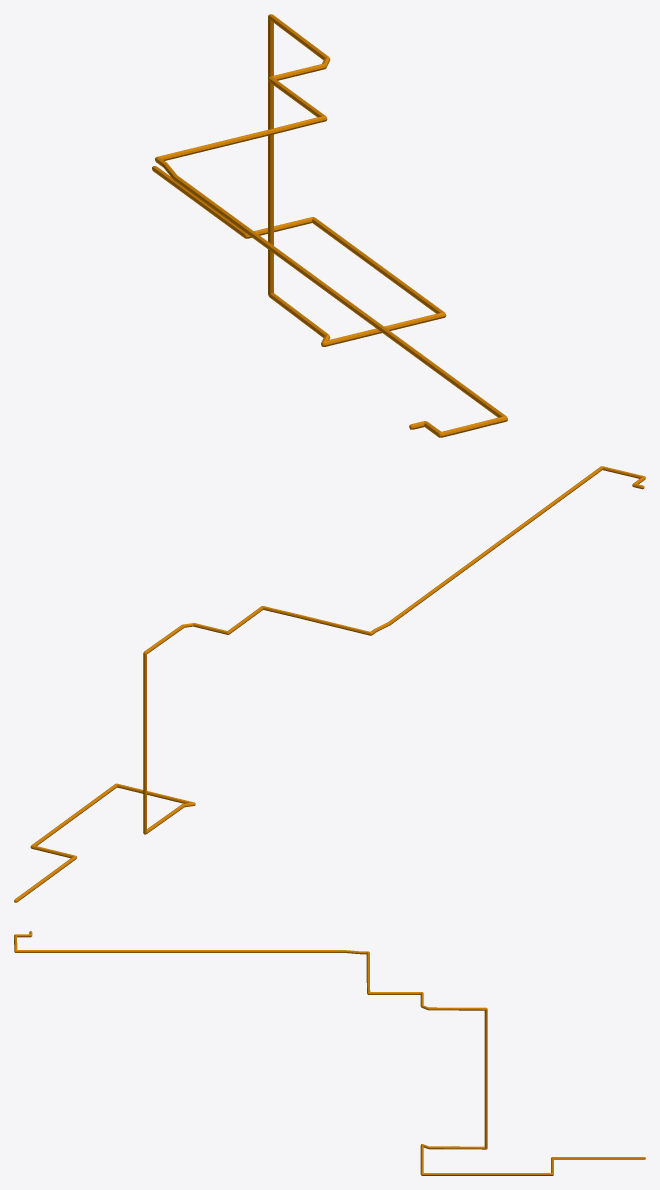
3 views of the same model, one above another, from view 1: azimuth 30°, elevation 25°; view 2: azimuth 150°, elevation 25°; view 3: azimuth 270°, elevation 25° (orthographic). The views are drawn at different scales.
Bounding box in the file's own units: 1613 × 1020 × 4124.
